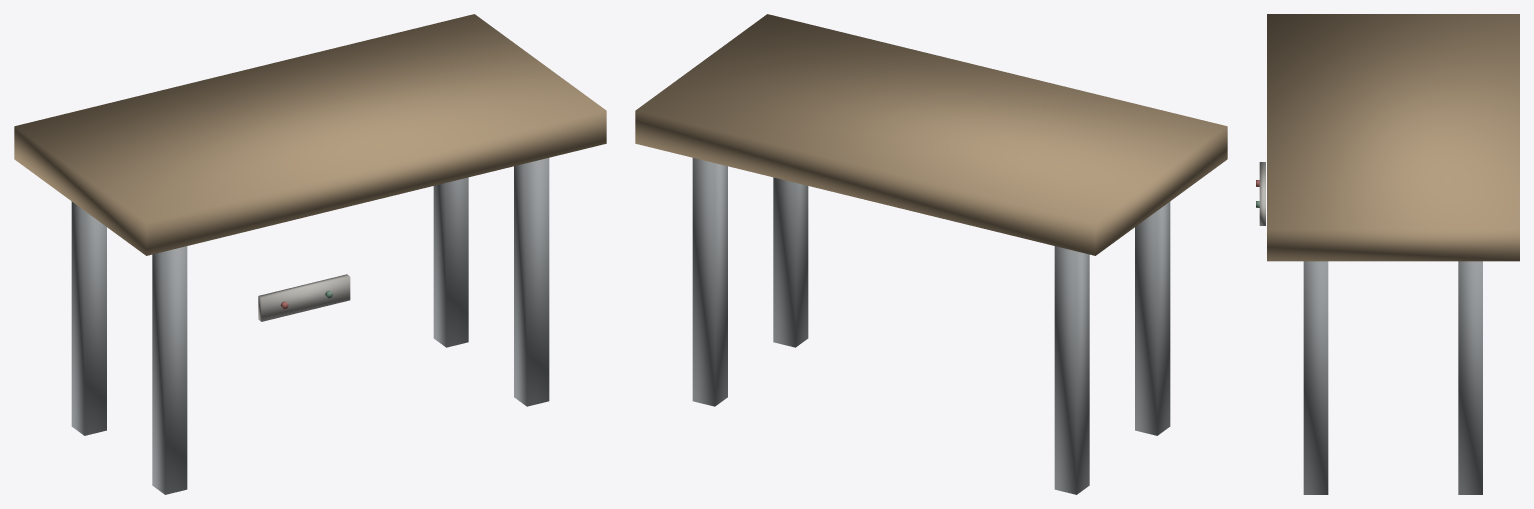
Rendered from workbench.glb.
The picture shows the model from 3 angles, left to right: view 1: azimuth 30°, elevation 25°; view 2: azimuth 150°, elevation 25°; view 3: azimuth 270°, elevation 25°; orthographic projection. The views are drawn at different scales.
Visible parts, largest first — view 1: world; view 2: world; view 3: world.
Boxes of the visible parts, box(x1,y1,x2,y2) form: world: box(14, 14, 606, 494); world: box(635, 14, 1227, 494); world: box(1256, 14, 1519, 494).
Bounding box in the file's own units: 1.45 × 0.89 × 0.751.
